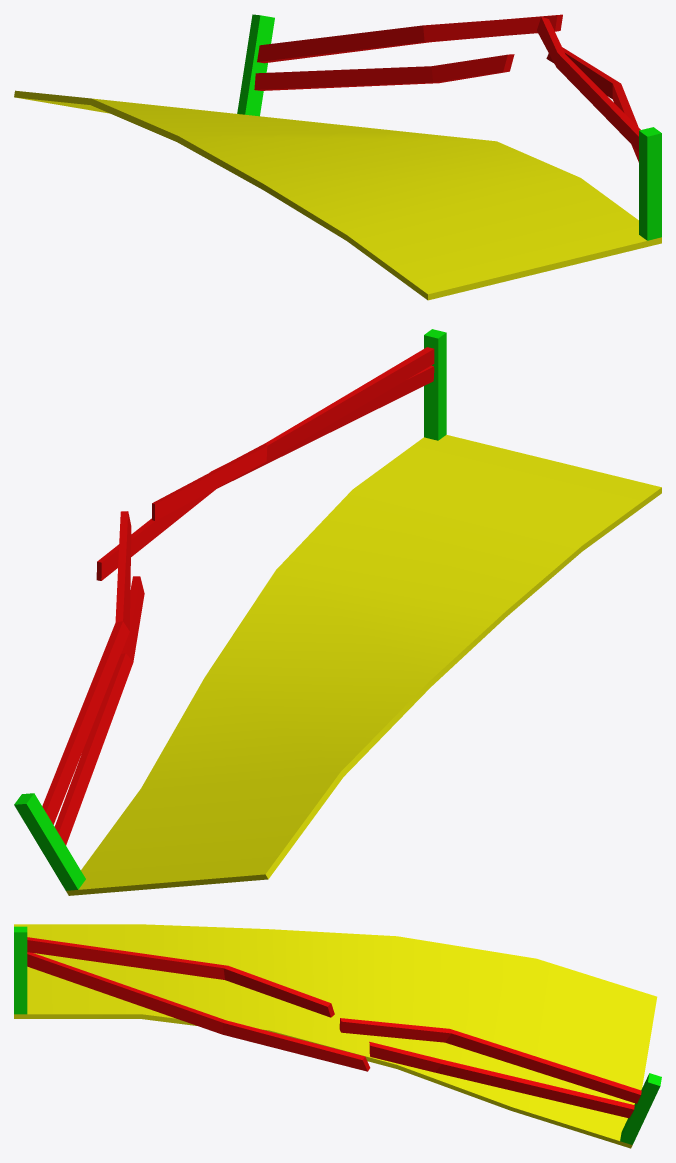
Rendered from BrokenWalkway_SM.fbx.
3 renders of one model, top to bottom at view 1: azimuth 30°, elevation 25°; view 2: azimuth 150°, elevation 25°; view 3: azimuth 270°, elevation 25°, orthographic. The views are drawn at different scales.
Visible parts, largest first — view 1: polySurface28; view 2: polySurface28; view 3: polySurface28.
Boxes of the visible parts, x1,y1,x2,y2 form: polySurface28: (14,14,661,300); polySurface28: (14,329,661,895); polySurface28: (14,924,661,1148).
Bounding box in the file's own units: 12.35 × 9.32 × 24.35.
